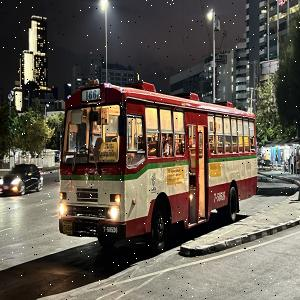BMTA-bus: (57, 78, 258, 255)
Bus Line Number: (85, 88, 99, 100)
Bus Side Number: (214, 189, 226, 202), (102, 225, 118, 234)
Destination Sign: (98, 139, 118, 164)
